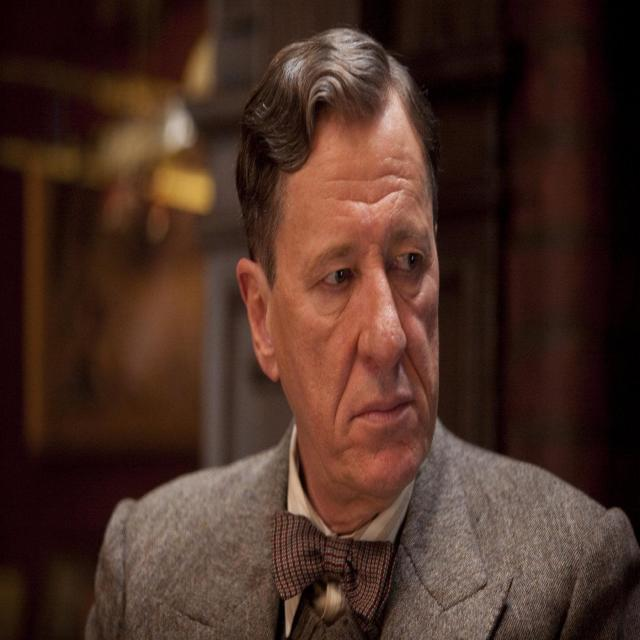no-earmuff: (222, 233, 292, 396)
